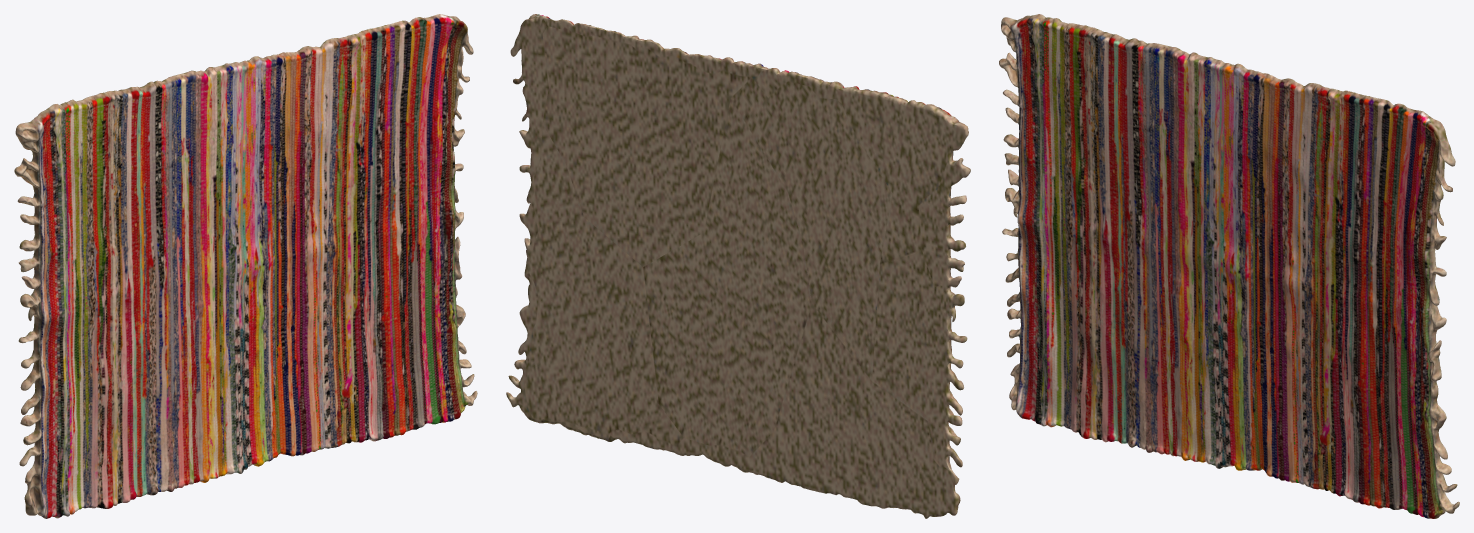
3 renders of one model, left to right at view 1: azimuth 30°, elevation 25°; view 2: azimuth 150°, elevation 25°; view 3: azimuth 330°, elevation 25°, orthographic.
Parts seen in each view (by area): view 1: Object_2; view 2: Object_2; view 3: Object_2.
Part boxes in pixels (x1,y1,x2,y2): Object_2: (14, 14, 477, 518); Object_2: (506, 14, 970, 518); Object_2: (999, 14, 1459, 518).
Size of the model in its own units: 0.11 by 0.0942 by 0.00374.
Materials: 1 (1 with a texture image).
